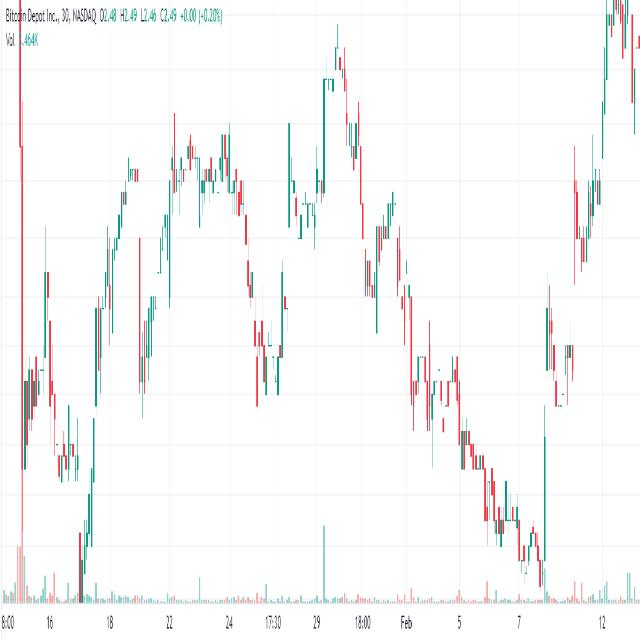Channel-down: (220, 143, 285, 446)
Channel-up: (69, 110, 161, 401), (125, 112, 196, 434)
